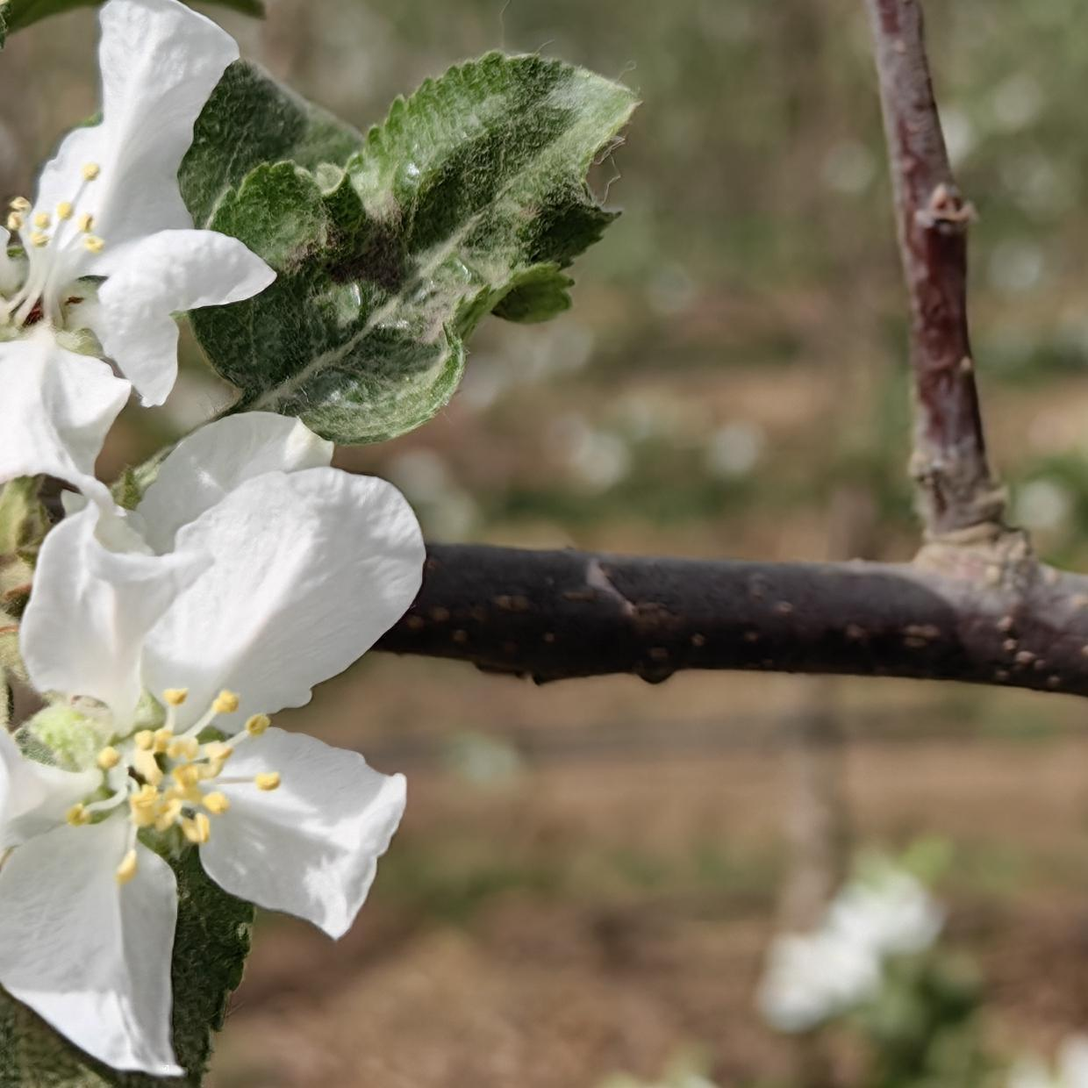apple_flower: (0, 0, 421, 1080), (759, 848, 977, 1088)
